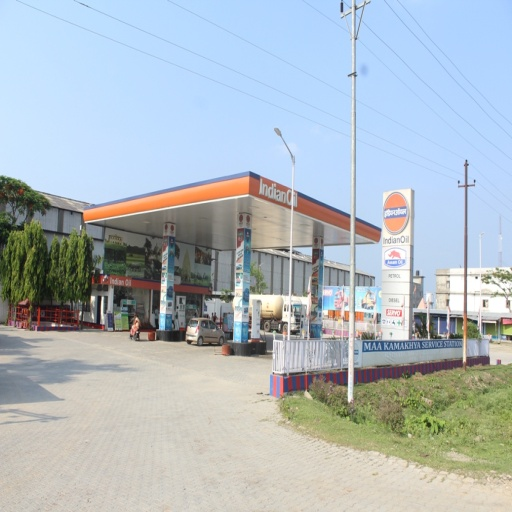roof: (86, 171, 380, 256)
